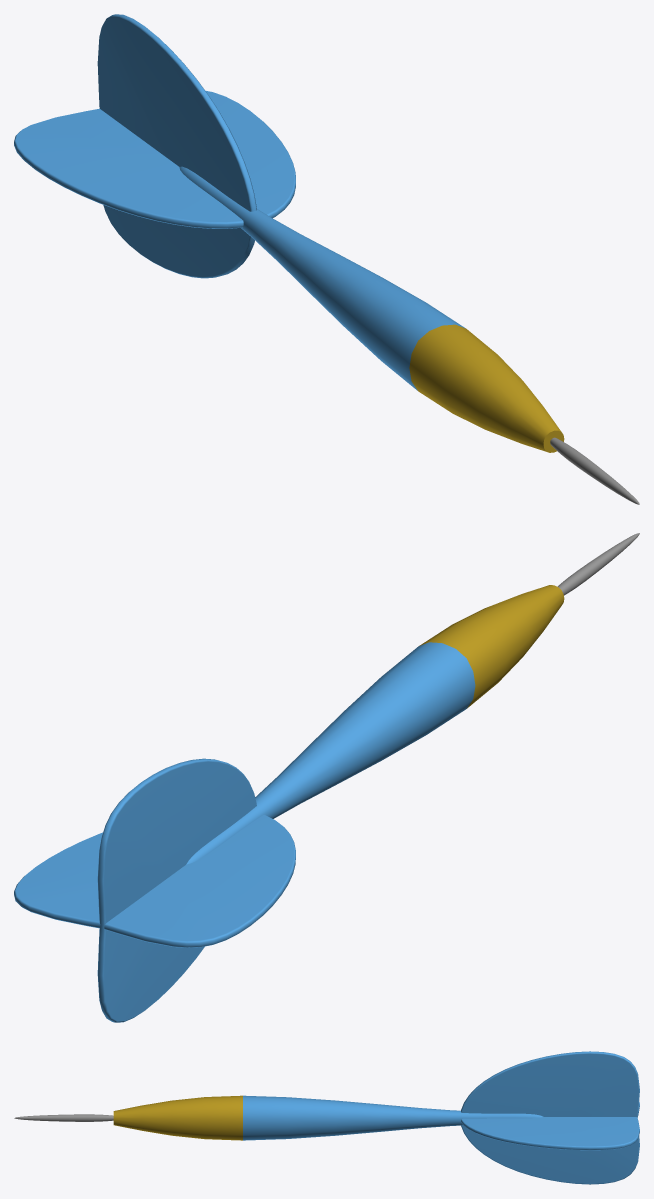
File: Dart01.fbx
3 renders of one model, top to bottom at view 1: azimuth 30°, elevation 25°; view 2: azimuth 150°, elevation 25°; view 3: azimuth 270°, elevation 25°, orthographic. The views are drawn at different scales.
Visible parts, largest first — view 1: Dart02; view 2: Dart02; view 3: Dart02.
Boxes of the visible parts, <box> form: Dart02: <box>14,14,639,504</box>; Dart02: <box>14,533,639,1022</box>; Dart02: <box>14,1051,639,1184</box>.
Bounding box in the file's own units: 8.76 × 8.76 × 37.61.
